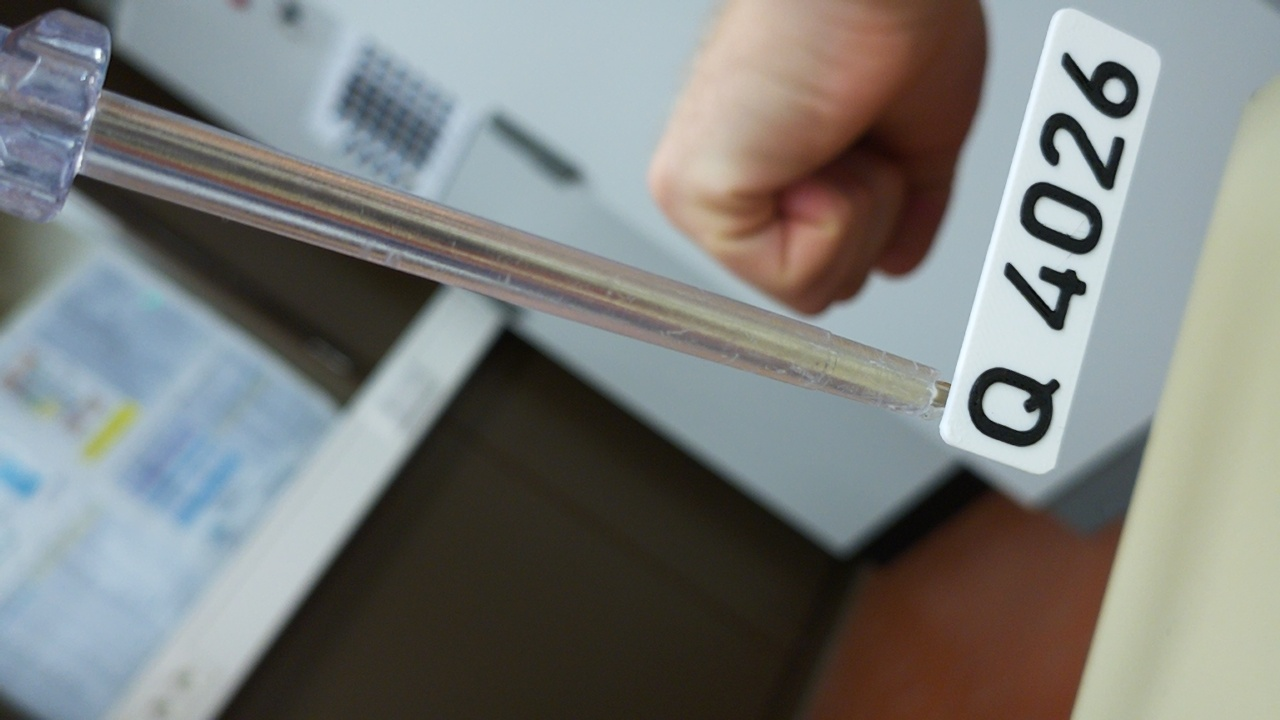license_plate: (935, 6, 1164, 479)
